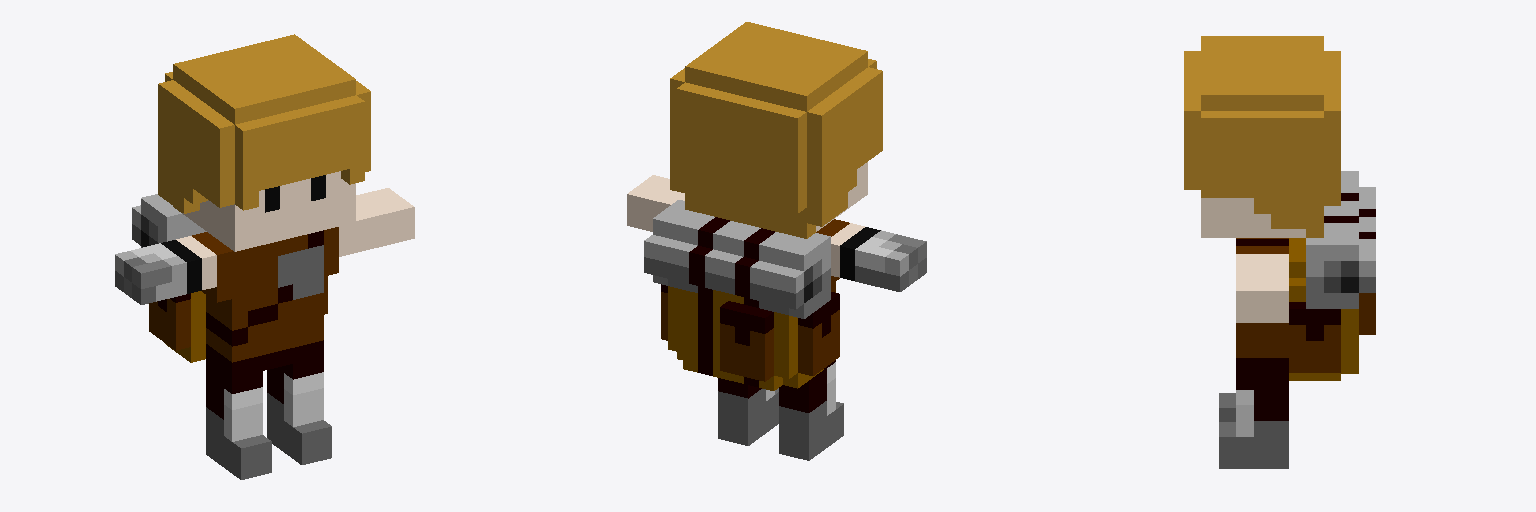
3 views of the same model, side by side, from view 1: azimuth 30°, elevation 25°; view 2: azimuth 150°, elevation 25°; view 3: azimuth 270°, elevation 25° (orthographic).
Bounding box in the file's own units: 1.12 × 1.5 × 0.6875.
Materials: 1 (1 with a texture image).